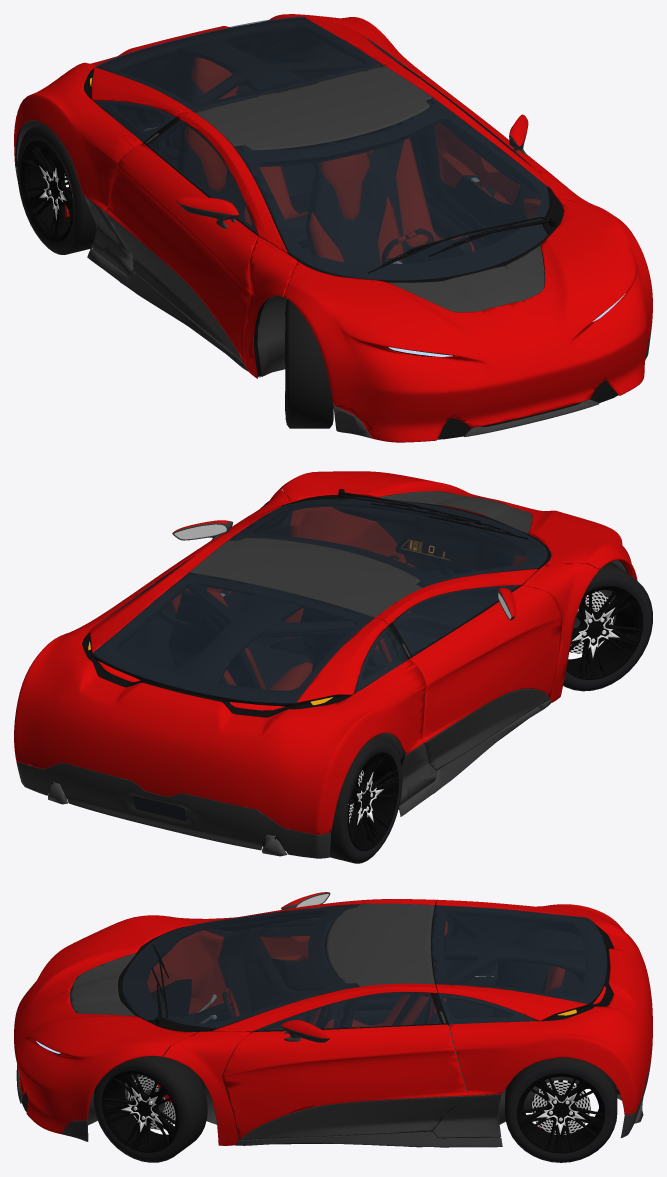
The model's file is concept-coupe.glb.
The picture shows the model from 3 angles, top to bottom: view 1: azimuth 30°, elevation 25°; view 2: azimuth 150°, elevation 25°; view 3: azimuth 270°, elevation 25°; orthographic projection. The views are drawn at different scales.
Parts seen in each view (by area): view 1: BodyHood, BodyWindshield, BodyRearwindow, BodyDoorRColor1, BodyRearPanelsColor1, BodyRoofPanel, BodyWindshieldGasket, InteriorSeatsColor1, InteriorSeatsColor2, BodyPillars, InteriorPillar, InteriorRearHatch (+20 smaller); view 2: BodyRearPanelsColor1, BodyRearwindow, BodyWindshield, BodyDoorRColor1, BodyPanelsColor2, BodyRoofPanel, BodyHood, InteriorRearHatch, BodyPillars, InteriorPillar, InteriorDashMid, BodyWindshieldGasket (+22 smaller); view 3: BodyWindshield, BodyRearPanelsColor1, BodyDoorLColor1, BodyHood, BodyRearwindow, BodyRoofPanel, BodyPillars, BodyWindshieldGasket, BodyDoorLColor2, BodyPanelsColor2, WheelFrontL, InteriorRearHatch (+25 smaller).
Boxes of the visible parts, left/top/right/bottom form: BodyHood: left=283, top=198, right=652, bottom=442; BodyWindshield: left=234, top=98, right=549, bottom=280; BodyRearwindow: left=94, top=16, right=382, bottom=111; BodyDoorRColor1: left=104, top=143, right=257, bottom=362; BodyRearPanelsColor1: left=14, top=14, right=428, bottom=210; BodyRoofPanel: left=193, top=65, right=432, bottom=150; BodyWindshieldGasket: left=234, top=99, right=563, bottom=282; InteriorSeatsColor1: left=185, top=57, right=475, bottom=264; InteriorSeatsColor2: left=180, top=78, right=472, bottom=264; BodyPillars: left=176, top=61, right=598, bottom=378; InteriorPillar: left=158, top=37, right=434, bottom=168; InteriorRearHatch: left=93, top=17, right=383, bottom=117; BodyRearPanelsColor1: left=14, top=569, right=425, bottom=834; BodyRearwindow: left=92, top=572, right=373, bottom=703; BodyWindshield: left=229, top=497, right=547, bottom=587; BodyDoorRColor1: left=409, top=585, right=562, bottom=742; BodyPanelsColor2: left=16, top=700, right=550, bottom=858; BodyRoofPanel: left=189, top=537, right=422, bottom=617; BodyHood: left=279, top=471, right=637, bottom=580; InteriorRearHatch: left=93, top=573, right=386, bottom=707; BodyPillars: left=175, top=489, right=599, bottom=702; InteriorPillar: left=174, top=574, right=417, bottom=682; InteriorDashMid: left=332, top=503, right=528, bottom=622; BodyWindshieldGasket: left=230, top=497, right=550, bottom=587; BodyWindshield: left=122, top=904, right=358, bottom=1028; BodyRearPanelsColor1: left=436, top=899, right=652, bottom=1115; BodyDoorLColor1: left=222, top=1024, right=467, bottom=1139; BodyHood: left=14, top=915, right=196, bottom=1133; BodyRearwindow: left=431, top=905, right=607, bottom=1004; BodyRoofPanel: left=326, top=903, right=434, bottom=986; BodyPillars: left=163, top=899, right=437, bottom=1145; BodyWindshieldGasket: left=118, top=905, right=357, bottom=1032; BodyDoorLColor2: left=240, top=1096, right=467, bottom=1140; BodyPanelsColor2: left=16, top=1050, right=652, bottom=1147; WheelFrontL: left=93, top=1054, right=207, bottom=1162; InteriorRearHatch: left=431, top=905, right=606, bottom=1020.
Size of the model in its own units: 2.54 by 1.15 by 4.36.
23 materials, 2 textured.
